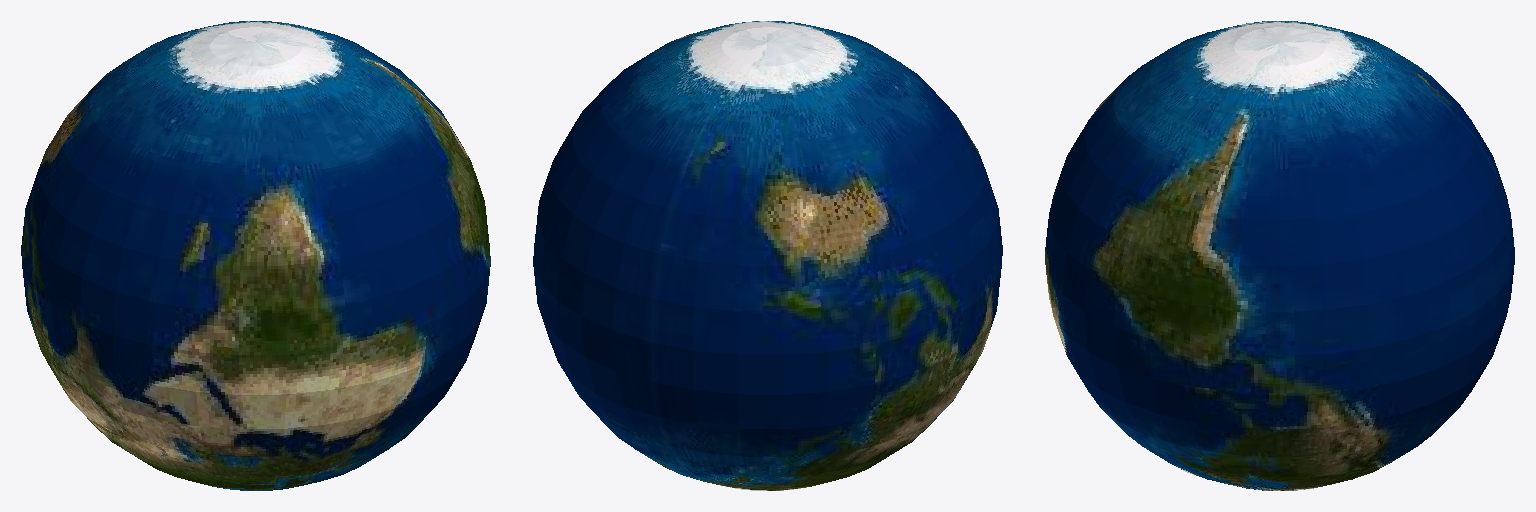
3 renders of one model, left to right at view 1: azimuth 30°, elevation 25°; view 2: azimuth 150°, elevation 25°; view 3: azimuth 270°, elevation 25°, orthographic.
Parts seen in each view (by area): view 1: Sphere01; view 2: Sphere01; view 3: Sphere01.
Part boxes in pixels (left/top/right/bottom): Sphere01: left=21, top=21, right=490, bottom=490; Sphere01: left=533, top=21, right=1002, bottom=490; Sphere01: left=1045, top=21, right=1514, bottom=490.
Size of the model in its own units: 1.27 by 1.27 by 1.27.
1 materials, 1 textured.